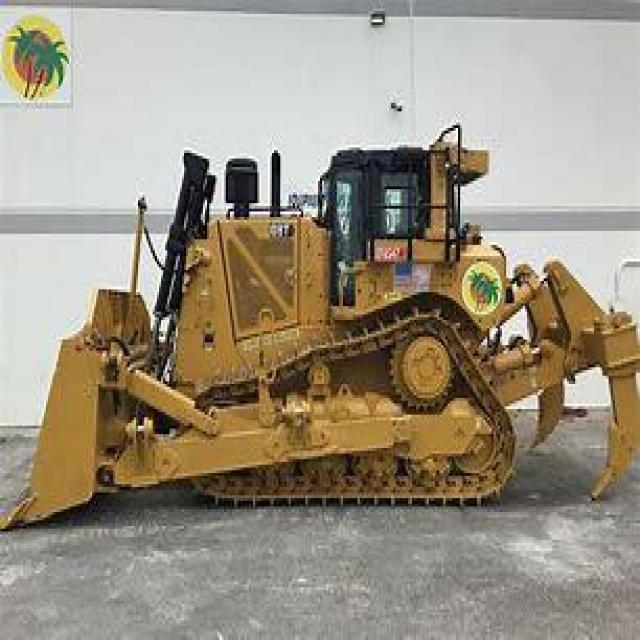Bulldozer: (12, 131, 638, 528)
